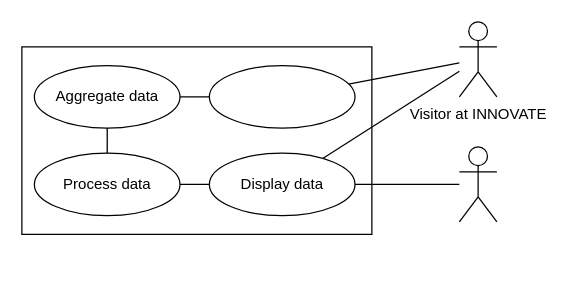
This 571x289 diagram has some shape labels left out. Here are the shapes that lost their labels. From the top down, the centre of each, then its label:
At point 281,96: "Detect Exit/Entry".
At point 477,184: "Administrative worker at INNOVATE".
